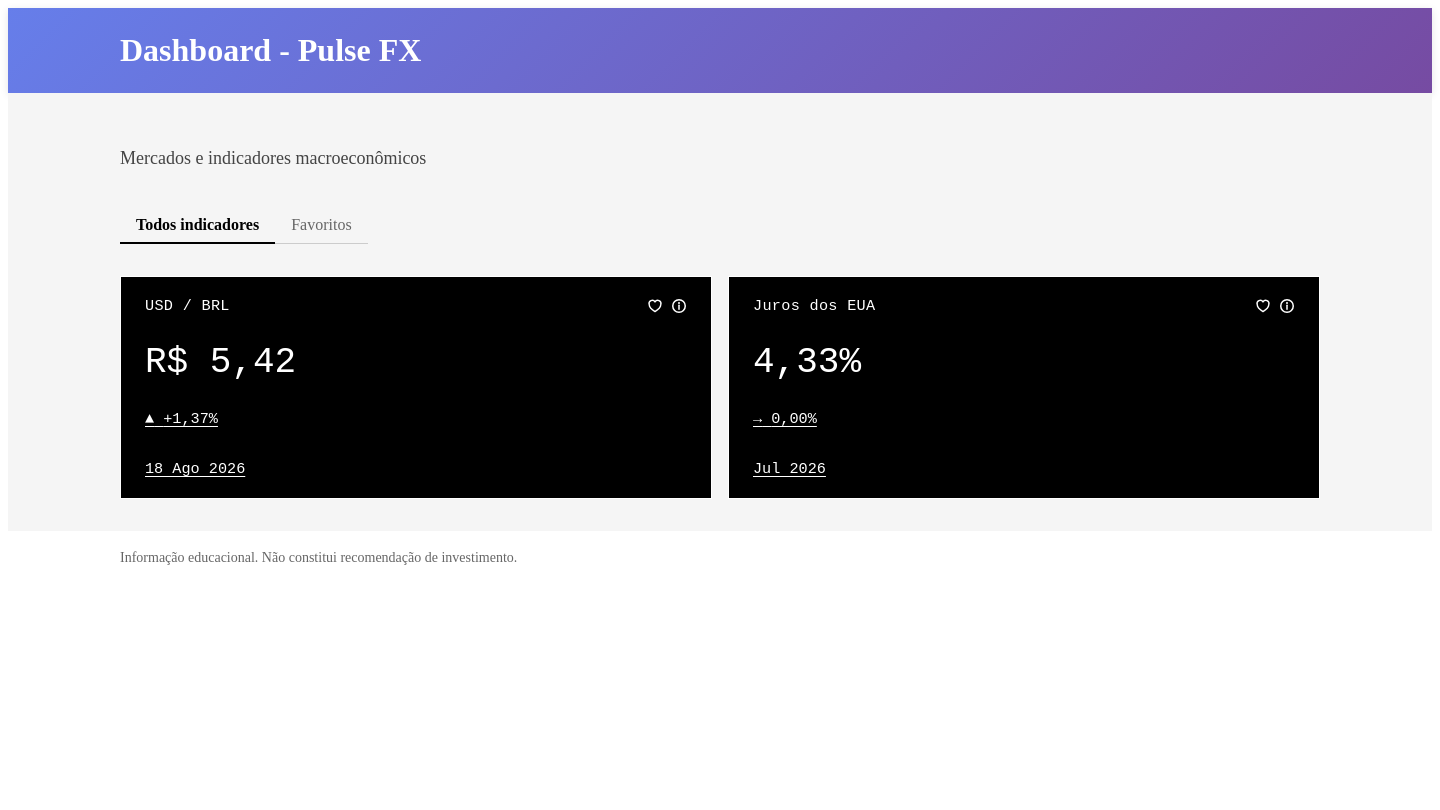
Test case: DashboardPage › should open FX history with the default period in the URL
The width and height of the screenshot is (1440, 810).
Check: the text "USD / BRL" is shown, box [145, 297, 230, 315]
What coordinates should you click on to do the following:
click the button "USD / BRL R$ 5,42 ▲ +1,37% 18 Ago 2026"
I would click on:
 (187, 306)
Its box is [120, 276, 712, 499].
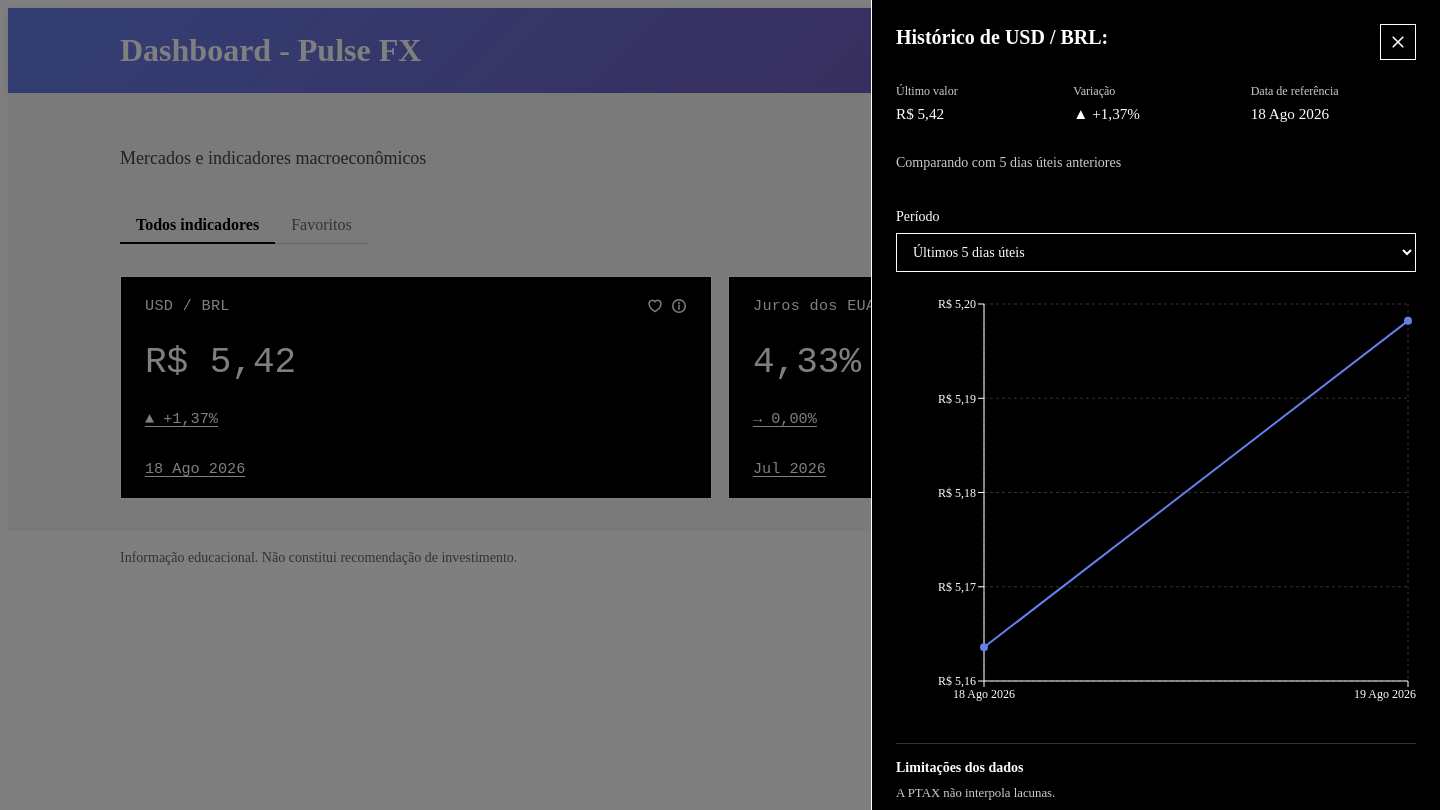
Check: the heading "Histórico de USD / BRL:" is shown, box [896, 26, 1108, 48]
Check: the dropdown labelled "Período" shows "Últimos 5 dias úteis", box [896, 233, 1416, 272]
